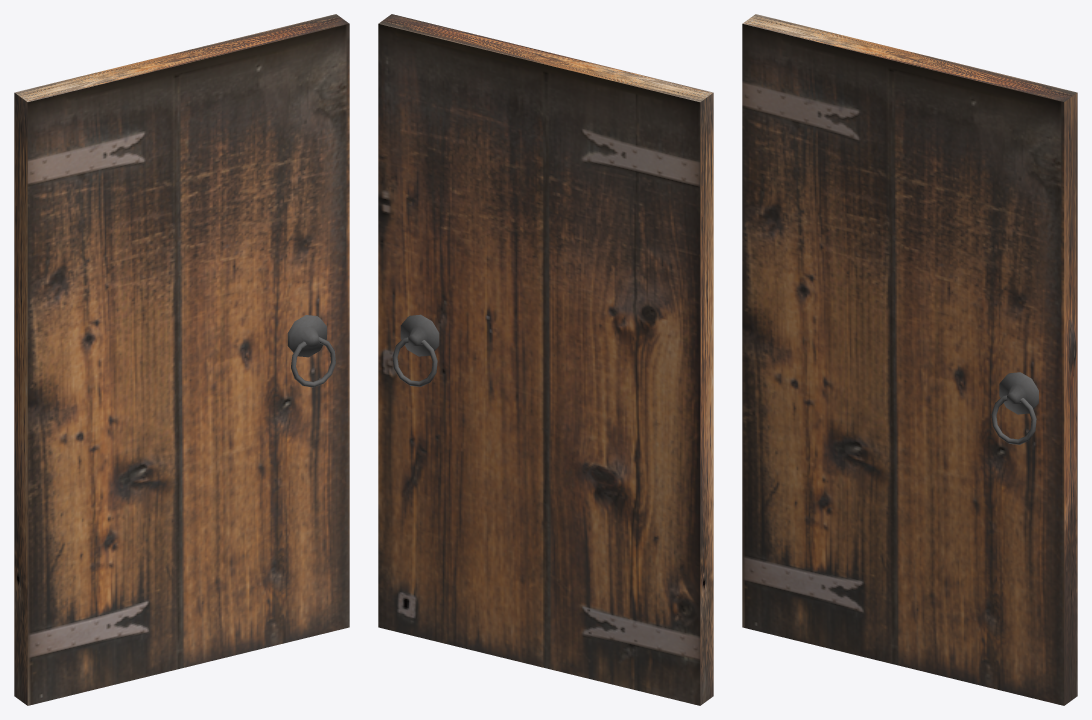
The model's file is door.glb.
3 renders of one model, left to right at view 1: azimuth 30°, elevation 25°; view 2: azimuth 150°, elevation 25°; view 3: azimuth 330°, elevation 25°, orthographic.
Parts seen in each view (by area): view 1: Door_1, door_handle_4; view 2: Door_1, door_handle_4; view 3: Door_1, door_handle_4.
Part boxes in pixels (<box>): Door_1: <box>14,14,349,705</box>; door_handle_4: <box>287,315,335,387</box>; Door_1: <box>378,14,713,705</box>; door_handle_4: <box>392,314,439,386</box>; Door_1: <box>742,14,1077,705</box>; door_handle_4: <box>991,372,1038,444</box>.
Size of the model in its own units: 2 by 3.58 by 0.3608.
2 materials, 2 textured.
